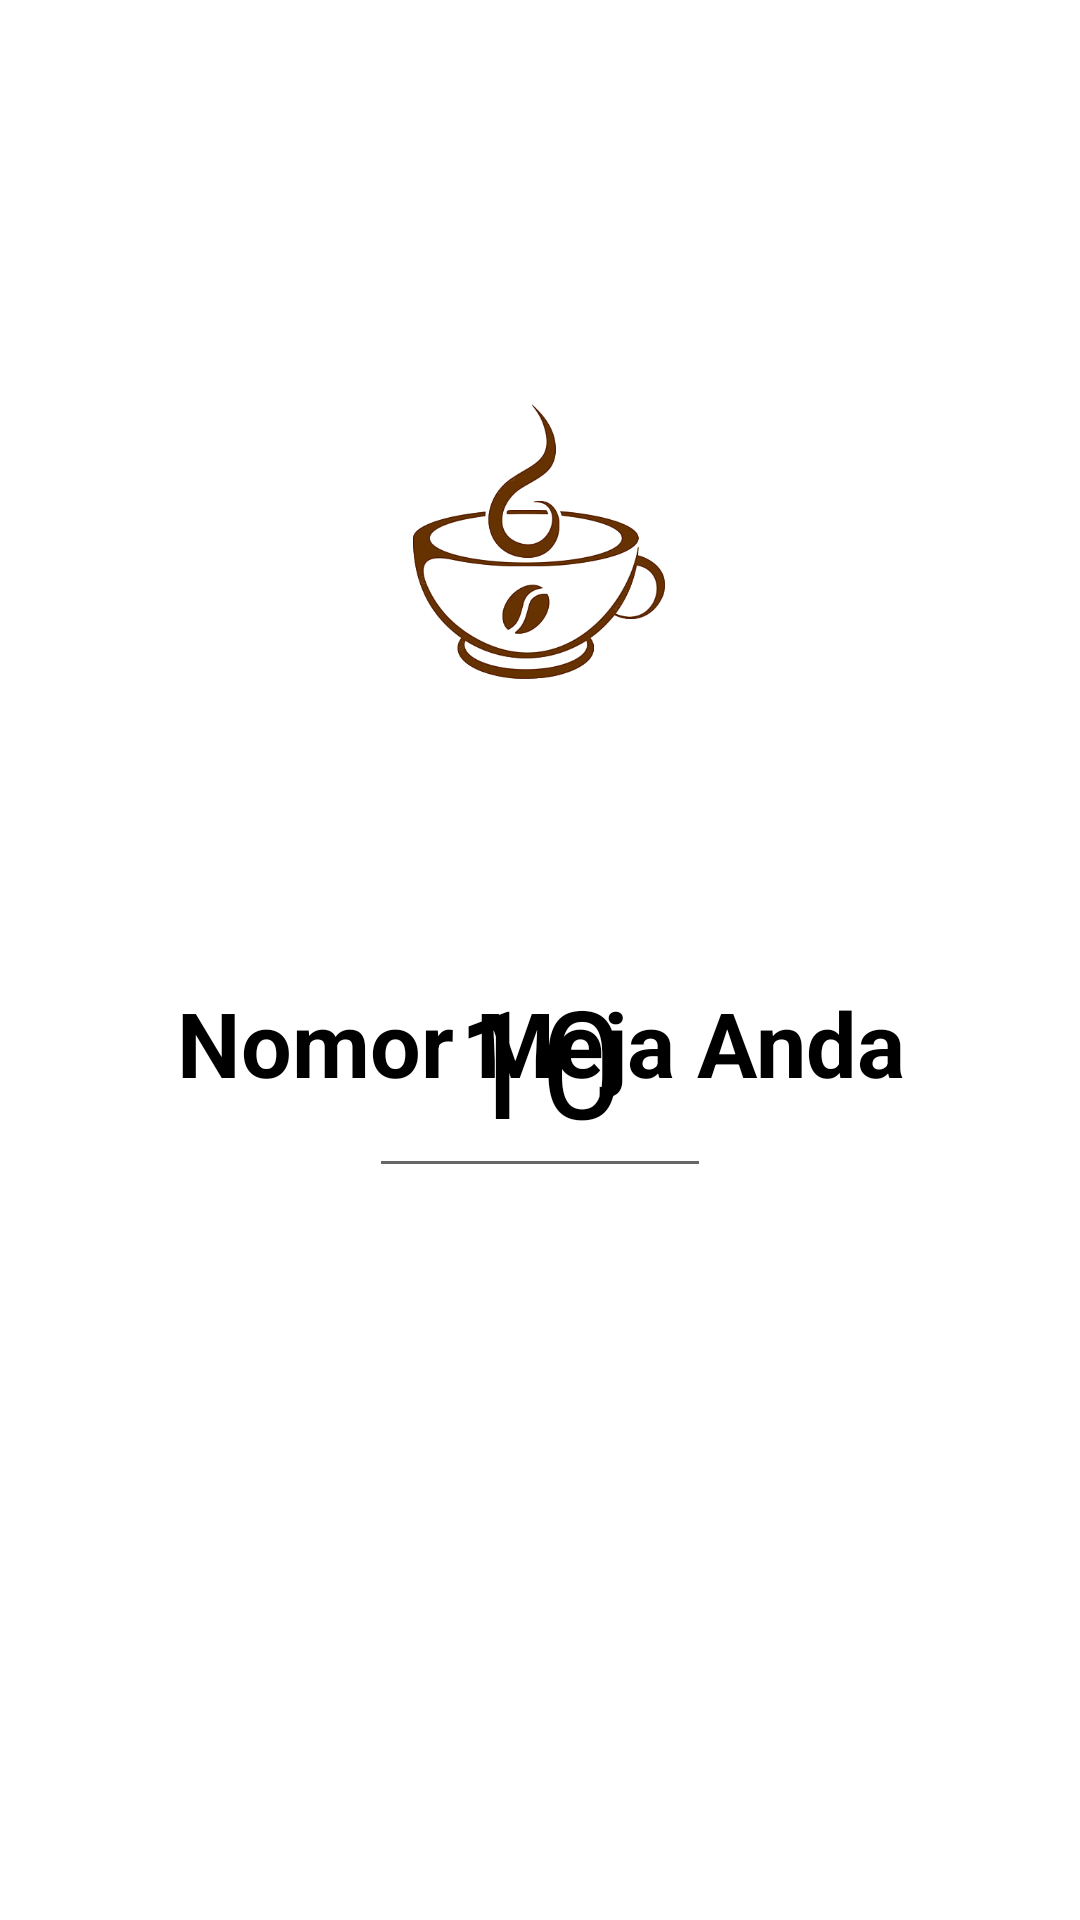

Screen size 1080 x 1920. Icon name, then its box in pixels as [x1, y1, x2, y2]:
cafedendi: [413, 404, 665, 679]
